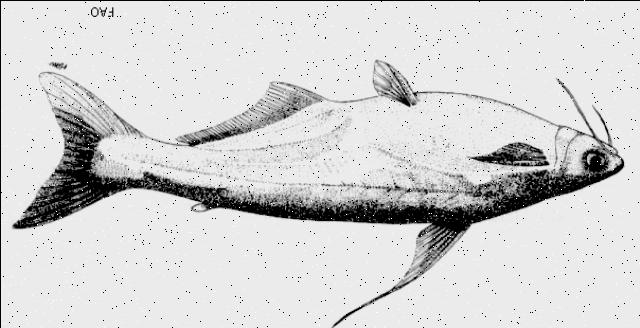Mulut: (580, 118, 628, 184)
Sirip Anal: (174, 77, 320, 148)
Sirip Dada: (468, 130, 546, 170)
Sirip Ekor: (14, 68, 130, 228)
Sirip Perut: (362, 55, 428, 121)
Sirip Punggung: (325, 212, 463, 324)
